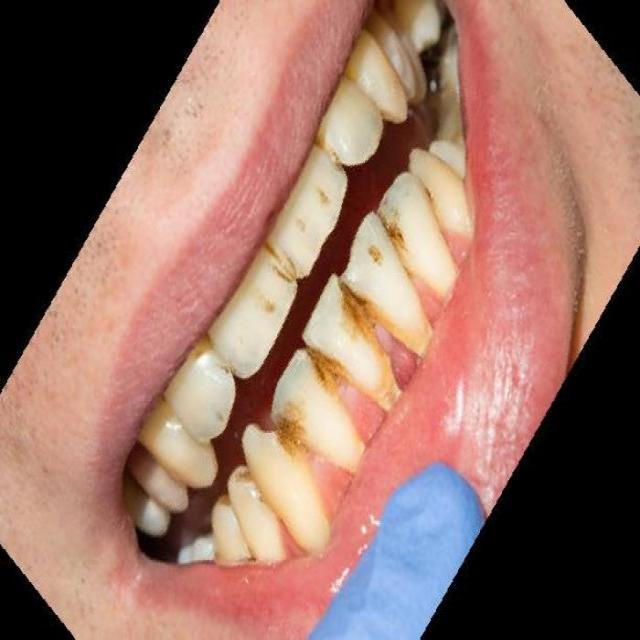CALCULUS: (304, 275, 400, 410), (273, 351, 365, 473), (379, 171, 457, 299)
